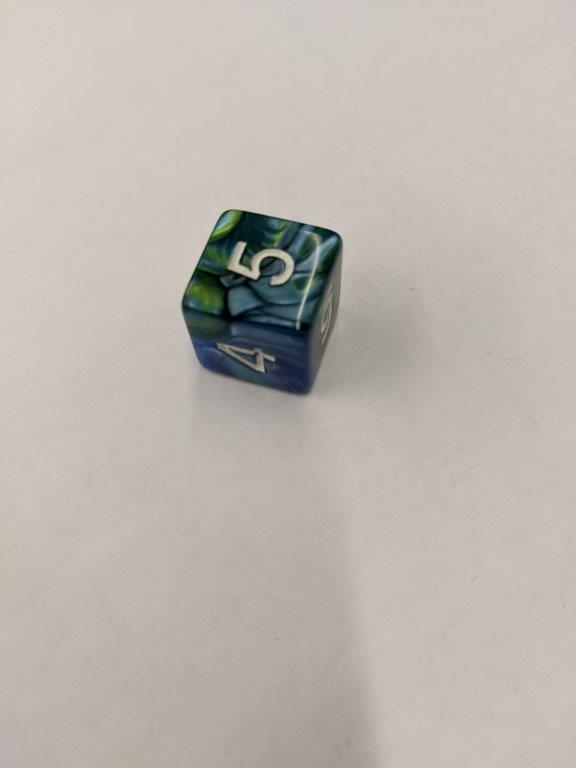d6-5: (179, 205, 342, 393)
